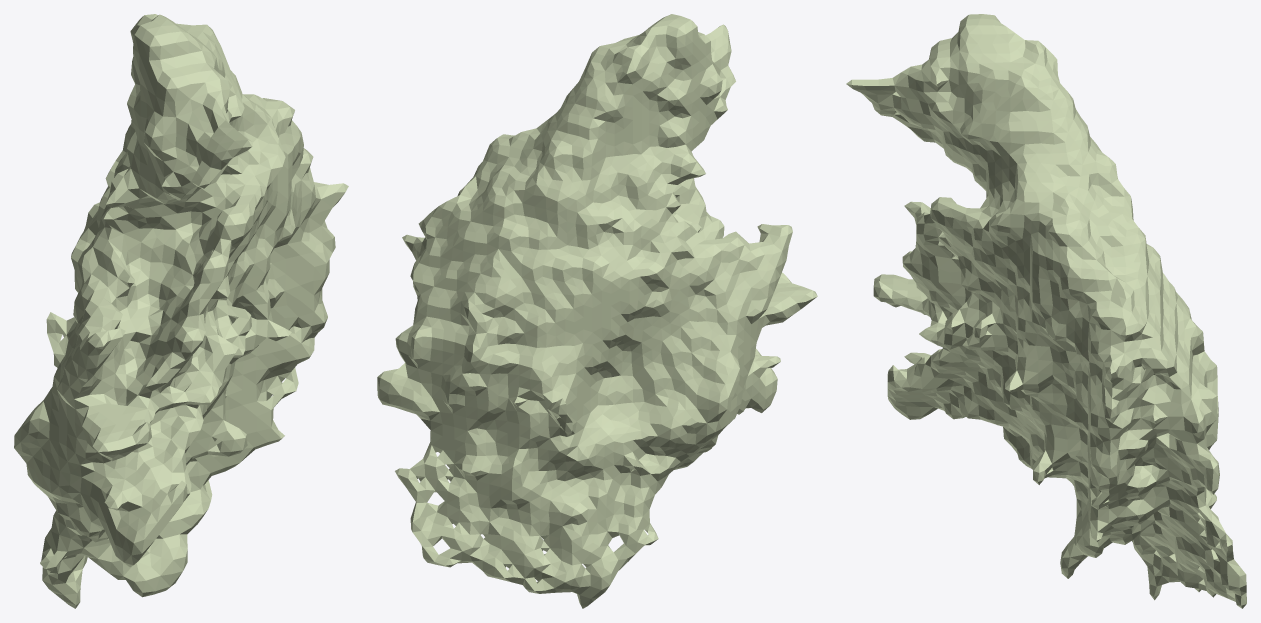
Rendered from aseg_046_Right-Cerebellum-White-Matter.glb.
3 renders of one model, left to right at view 1: azimuth 30°, elevation 25°; view 2: azimuth 150°, elevation 25°; view 3: azimuth 270°, elevation 25°, orthographic. The views are drawn at different scales.
Bounding box in the file's own units: 26.55 × 43.75 × 27.61.
